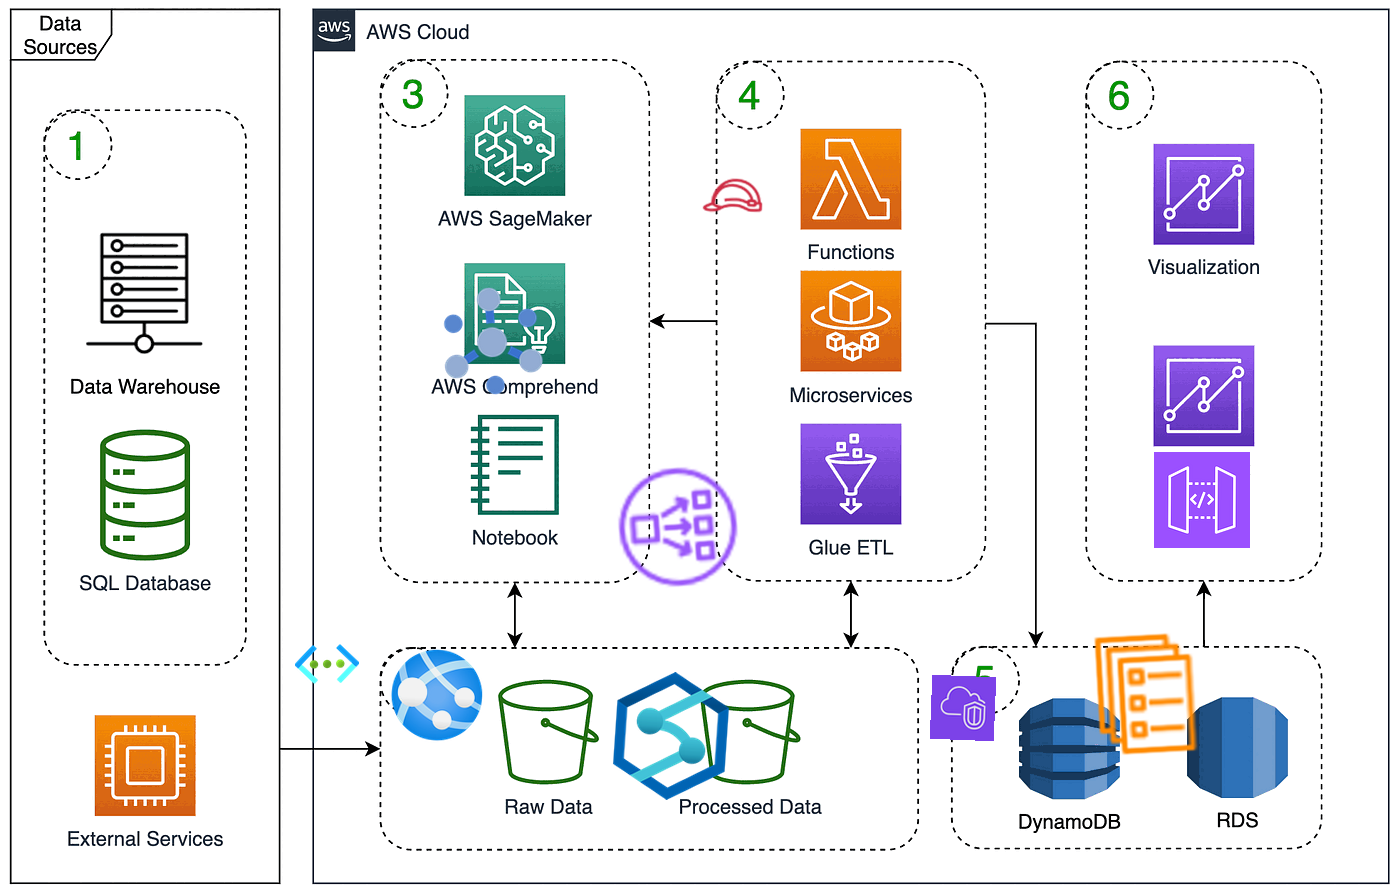aws_amazon_api_gateway: (1153, 451, 1251, 549)
aws_amazon_virtual_private_cloud: (929, 674, 997, 742)
aws_elastic_container_service_service: (1078, 626, 1214, 762)
aws_elastic_load_balancing_network_load_balancer: (609, 458, 747, 596)
aws_identity_access_management_role: (699, 162, 767, 230)
azure_app_services: (386, 644, 488, 746)
azure_synapse_analytics: (602, 667, 740, 805)
azure_virtual_networks: (294, 631, 360, 697)
gcp_pubsub: (423, 272, 561, 410)
